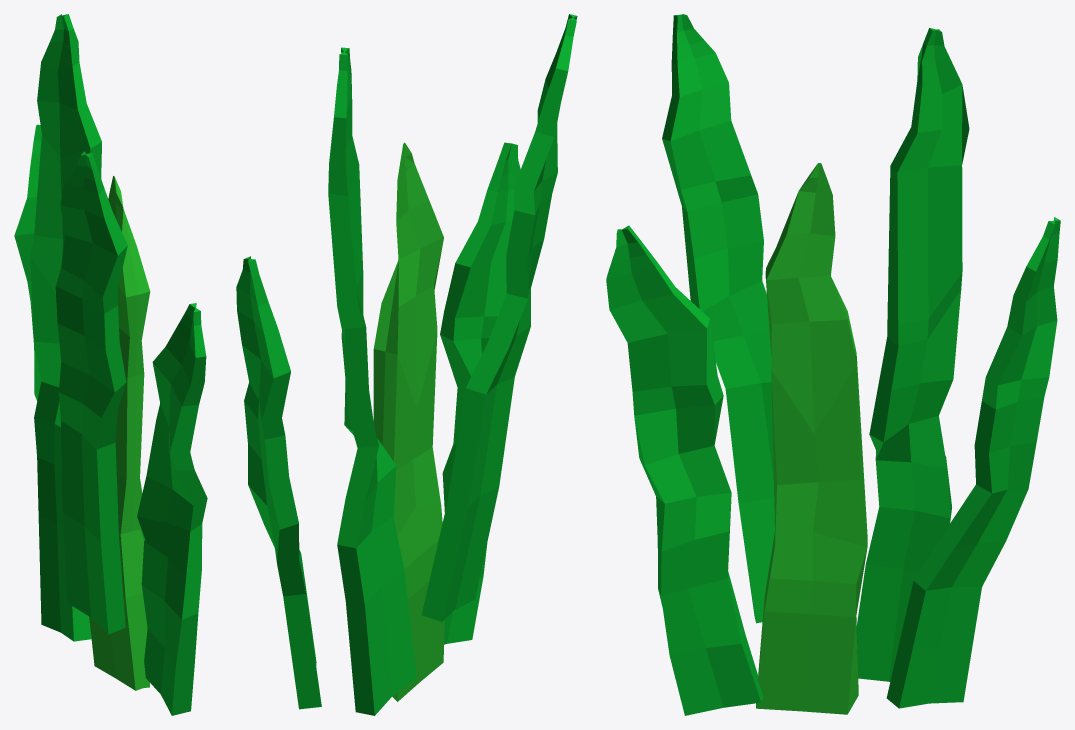
The model's file is seaweedsssss.fbx.
3 views of the same model, side by side, from view 1: azimuth 30°, elevation 25°; view 2: azimuth 150°, elevation 25°; view 3: azimuth 270°, elevation 25° (orthographic). The views are drawn at different scales.
Visible parts, largest first — view 1: Side Seaweed taller, Side Seaweed shorter.001, Side Seaweed taller.001, main seaweed, Side Seaweed shorter; view 2: Side Seaweed taller.001, main seaweed, Side Seaweed taller, Side Seaweed shorter, Side Seaweed shorter.001; view 3: main seaweed, Side Seaweed taller.001, Side Seaweed shorter.001, Side Seaweed taller, Side Seaweed shorter.
Part boxes in pixels (left/top/right/bottom): Side Seaweed taller: left=55, top=151, right=127, bottom=634; Side Seaweed shorter.001: left=137, top=303, right=207, bottom=715; Side Seaweed taller.001: left=30, top=14, right=101, bottom=641; main seaweed: left=89, top=176, right=150, bottom=690; Side Seaweed shorter: left=14, top=124, right=41, bottom=400; Side Seaweed taller.001: left=328, top=47, right=416, bottom=715; main seaweed: left=373, top=142, right=444, bottom=701; Side Seaweed taller: left=421, top=14, right=577, bottom=621; Side Seaweed shorter: left=236, top=256, right=321, bottom=709; Side Seaweed shorter.001: left=440, top=142, right=520, bottom=644; main seaweed: left=756, top=163, right=867, bottom=714; Side Seaweed taller.001: left=856, top=28, right=969, bottom=681; Side Seaweed shorter.001: left=606, top=225, right=763, bottom=715; Side Seaweed taller: left=662, top=14, right=774, bottom=623; Side Seaweed shorter: left=886, top=217, right=1060, bottom=708.
Bounding box in the file's own units: 379 × 1351 × 814.
